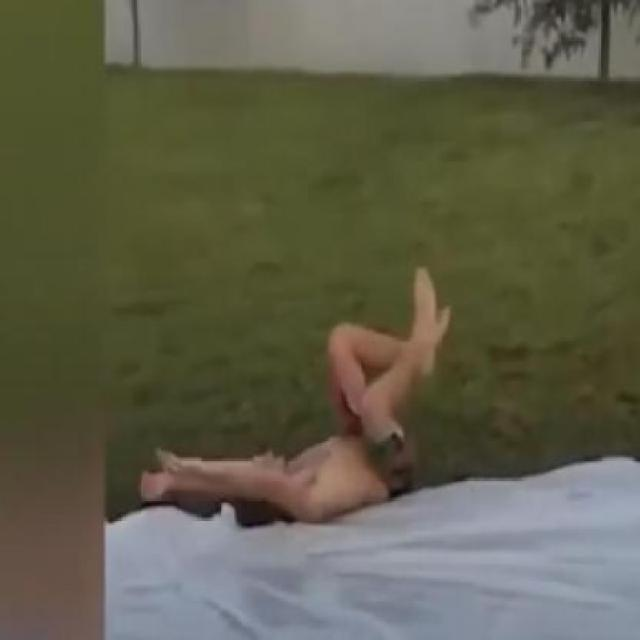fall: (138, 262, 453, 522)
